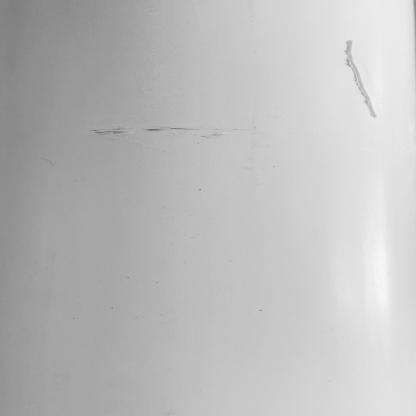sunshang: (346, 42, 380, 117), (88, 123, 257, 136)
